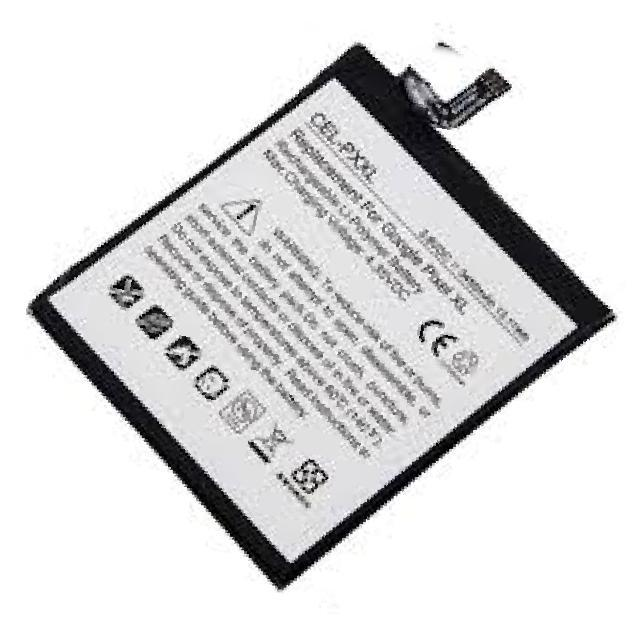Battery: (2, 0, 633, 612)
